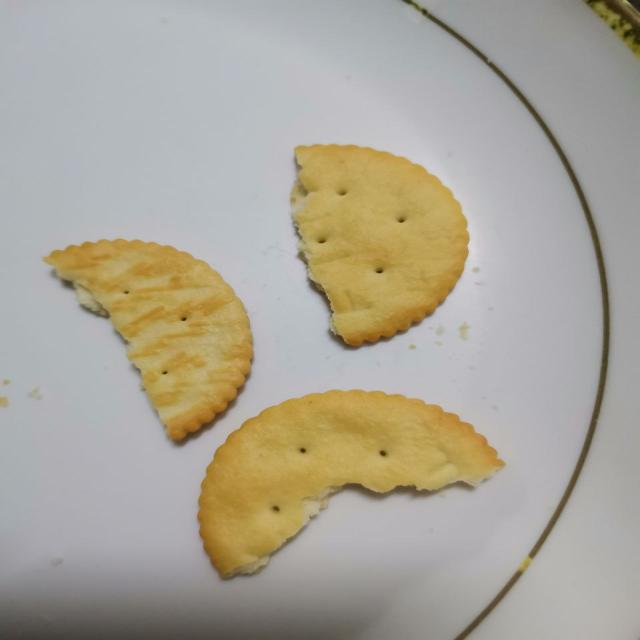broken biscuit: (195, 387, 505, 580), (42, 236, 255, 442), (287, 141, 471, 347)
